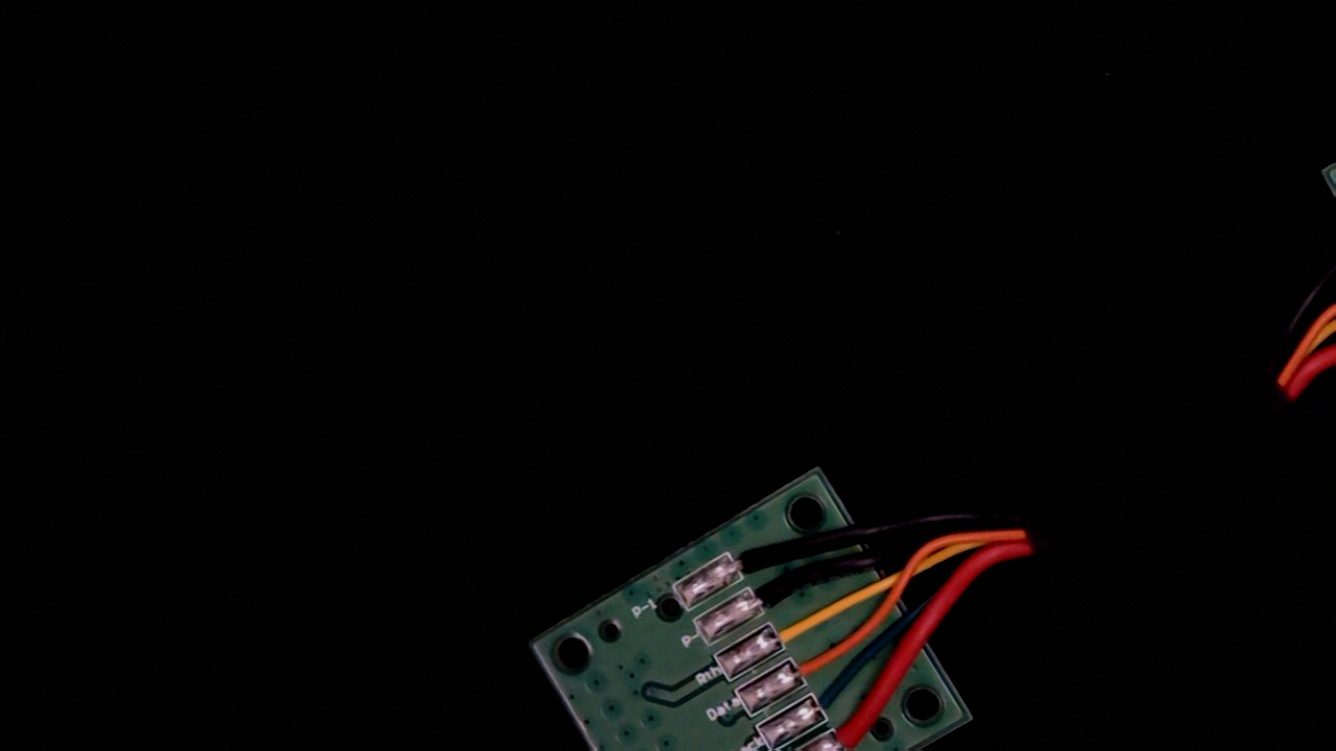Black: (727, 560, 810, 629)
Black1: (707, 529, 785, 594)
Green: (789, 667, 870, 735)
Orange: (770, 632, 852, 699)
Red: (811, 705, 892, 751)
Yellow: (748, 596, 832, 665)
